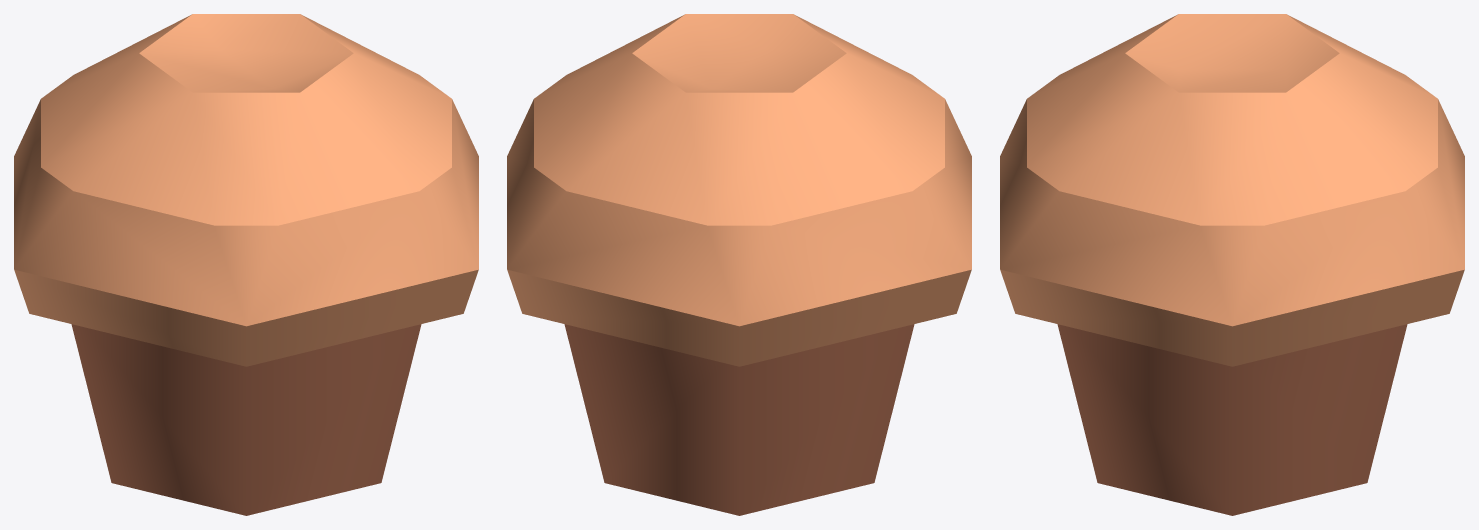
File: muffin.obj
The picture shows the model from 3 angles, left to right: view 1: azimuth 30°, elevation 25°; view 2: azimuth 150°, elevation 25°; view 3: azimuth 270°, elevation 25°; orthographic projection.
Visible parts, largest first — view 1: muffin; view 2: muffin; view 3: muffin.
Boxes of the visible parts, left/top/right/bottom form: muffin: left=14, top=14, right=478, bottom=515; muffin: left=507, top=14, right=971, bottom=515; muffin: left=1000, top=14, right=1464, bottom=515.
Size of the model in its own units: 0.3047 by 0.2486 by 0.2639.
